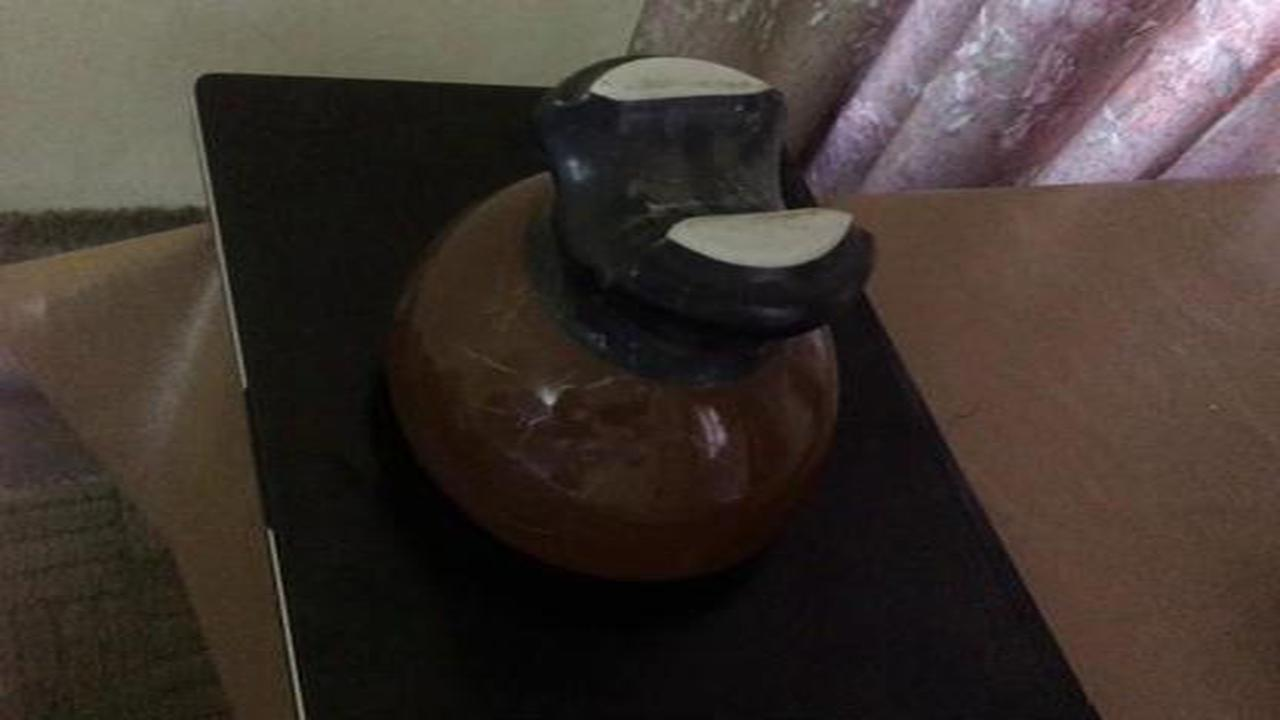insulator_pin: (364, 35, 893, 611)
